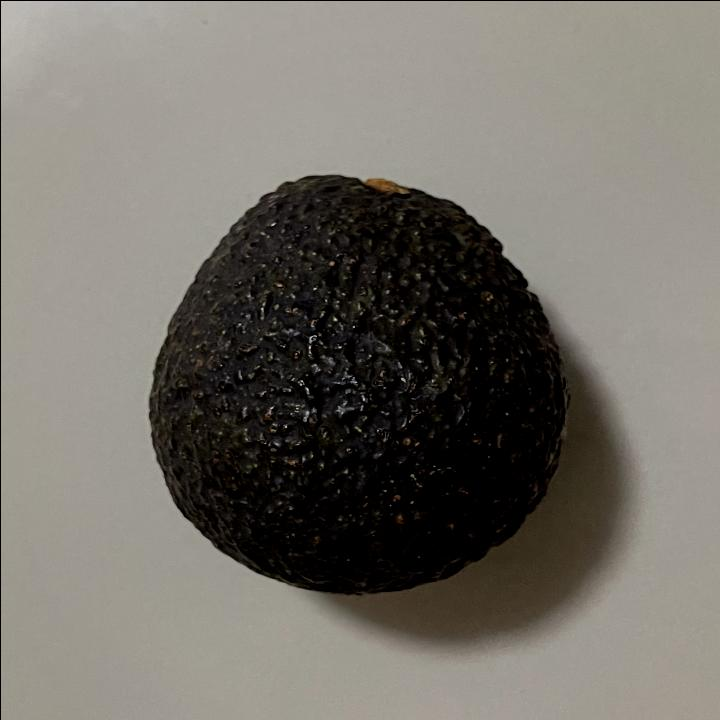Level2: (139, 168, 576, 599)
